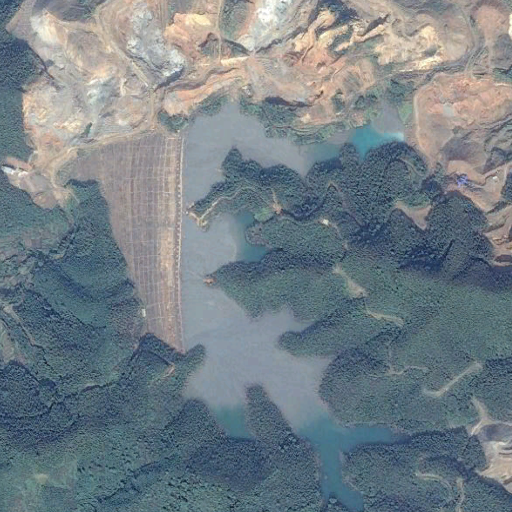tp: (72, 103, 409, 512)
